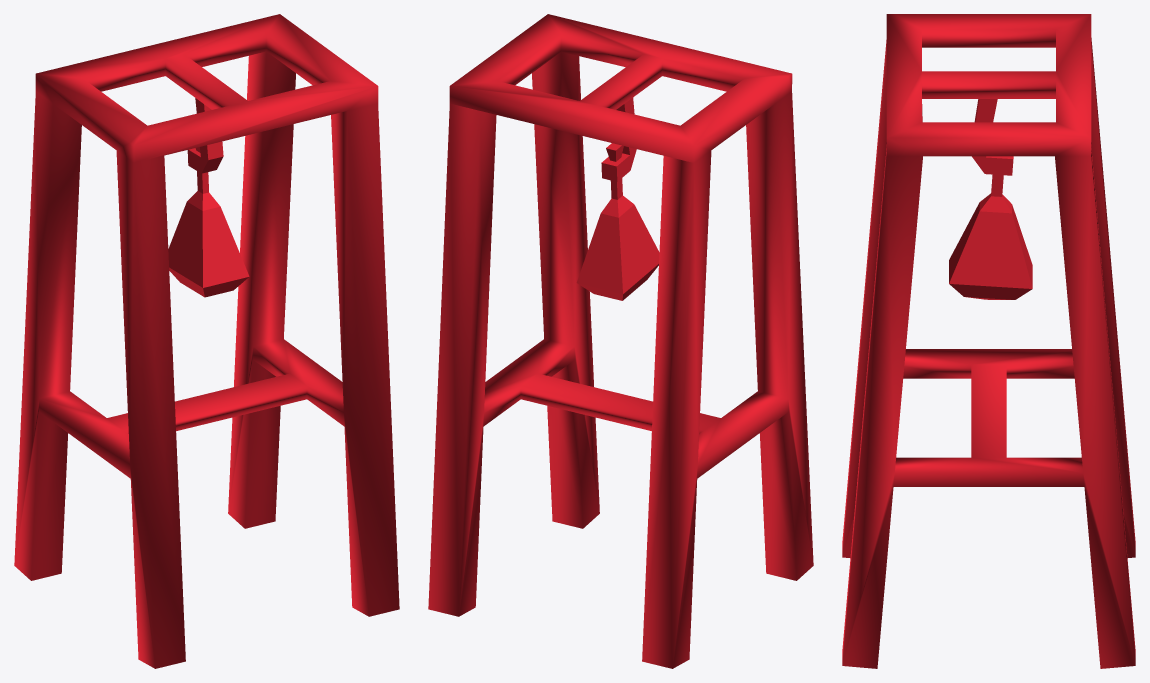
Rendered from portique_viande.obj.
The picture shows the model from 3 angles, left to right: view 1: azimuth 30°, elevation 25°; view 2: azimuth 150°, elevation 25°; view 3: azimuth 270°, elevation 25°; orthographic projection. The views are drawn at different scales.
Parts seen in each view (by area): view 1: obj_0; view 2: obj_0; view 3: obj_0.
Boxes of the visible parts, left/top/right/bottom form: obj_0: left=14, top=14, right=399, bottom=668; obj_0: left=428, top=14, right=813, bottom=668; obj_0: left=842, top=14, right=1135, bottom=668.
Size of the model in its own units: 0.6018 by 1.2 by 0.6019.
